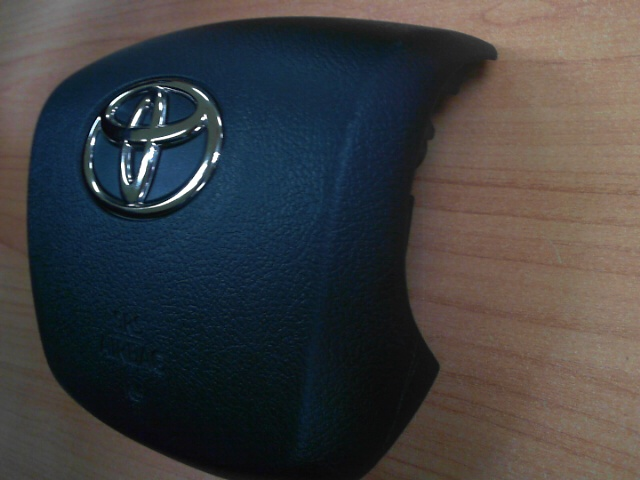Airbag: (26, 16, 499, 480)
